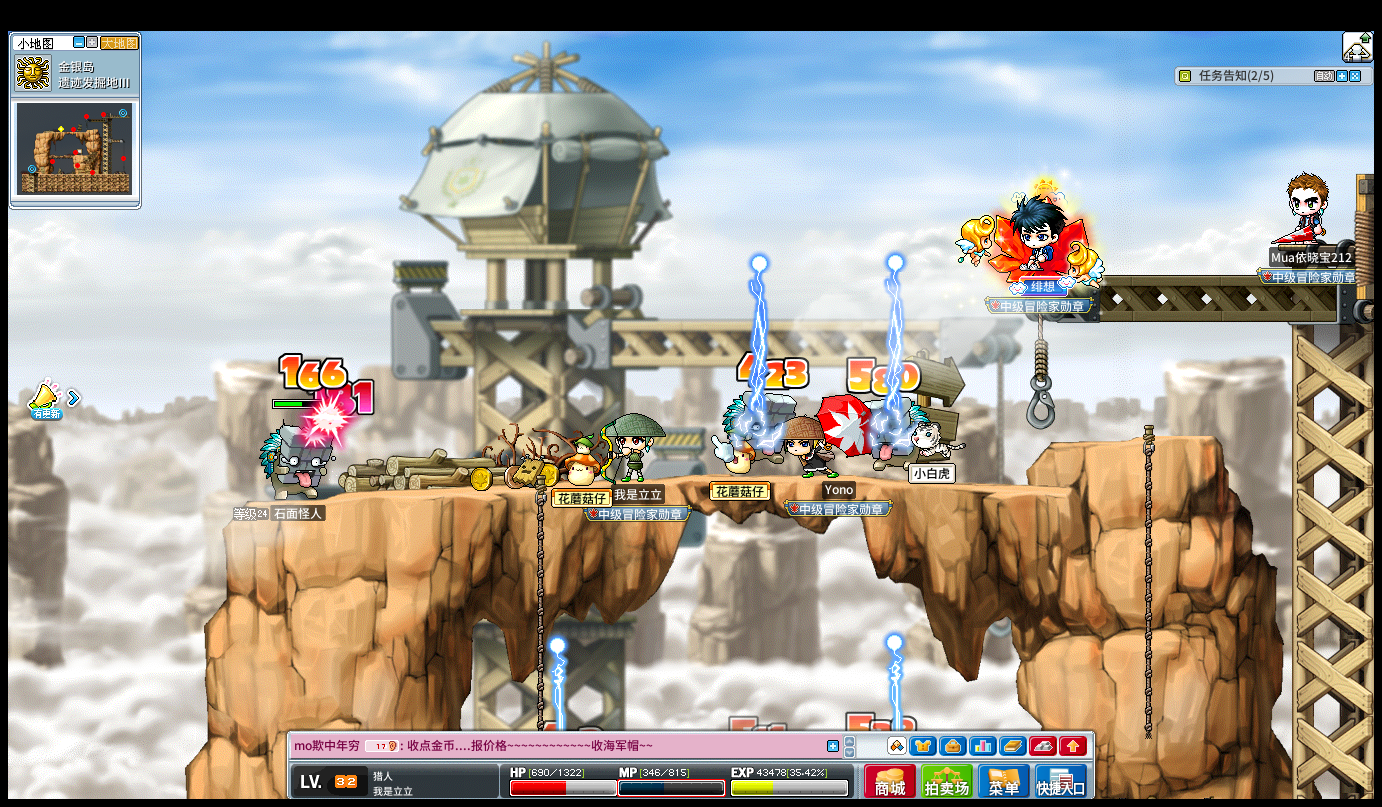floor: (251, 470, 1128, 491), (1047, 429, 1218, 444), (1049, 432, 1217, 447)
monster: (720, 391, 792, 470), (869, 394, 925, 479), (257, 426, 312, 499)
rope: (1140, 416, 1155, 737), (1140, 421, 1154, 664), (533, 474, 545, 712), (1035, 316, 1048, 422), (1141, 632, 1153, 739)
